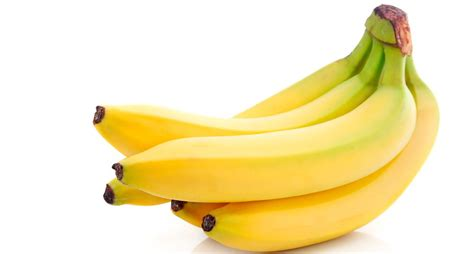banana: (188, 82, 441, 254), (112, 80, 416, 208)
